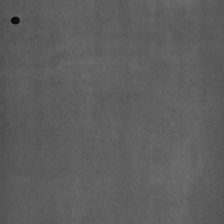punching_hole: (25, 31, 216, 212), (10, 13, 22, 27)
